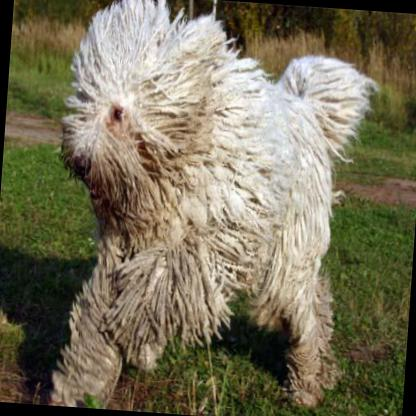komondor: (35, 0, 386, 416)
